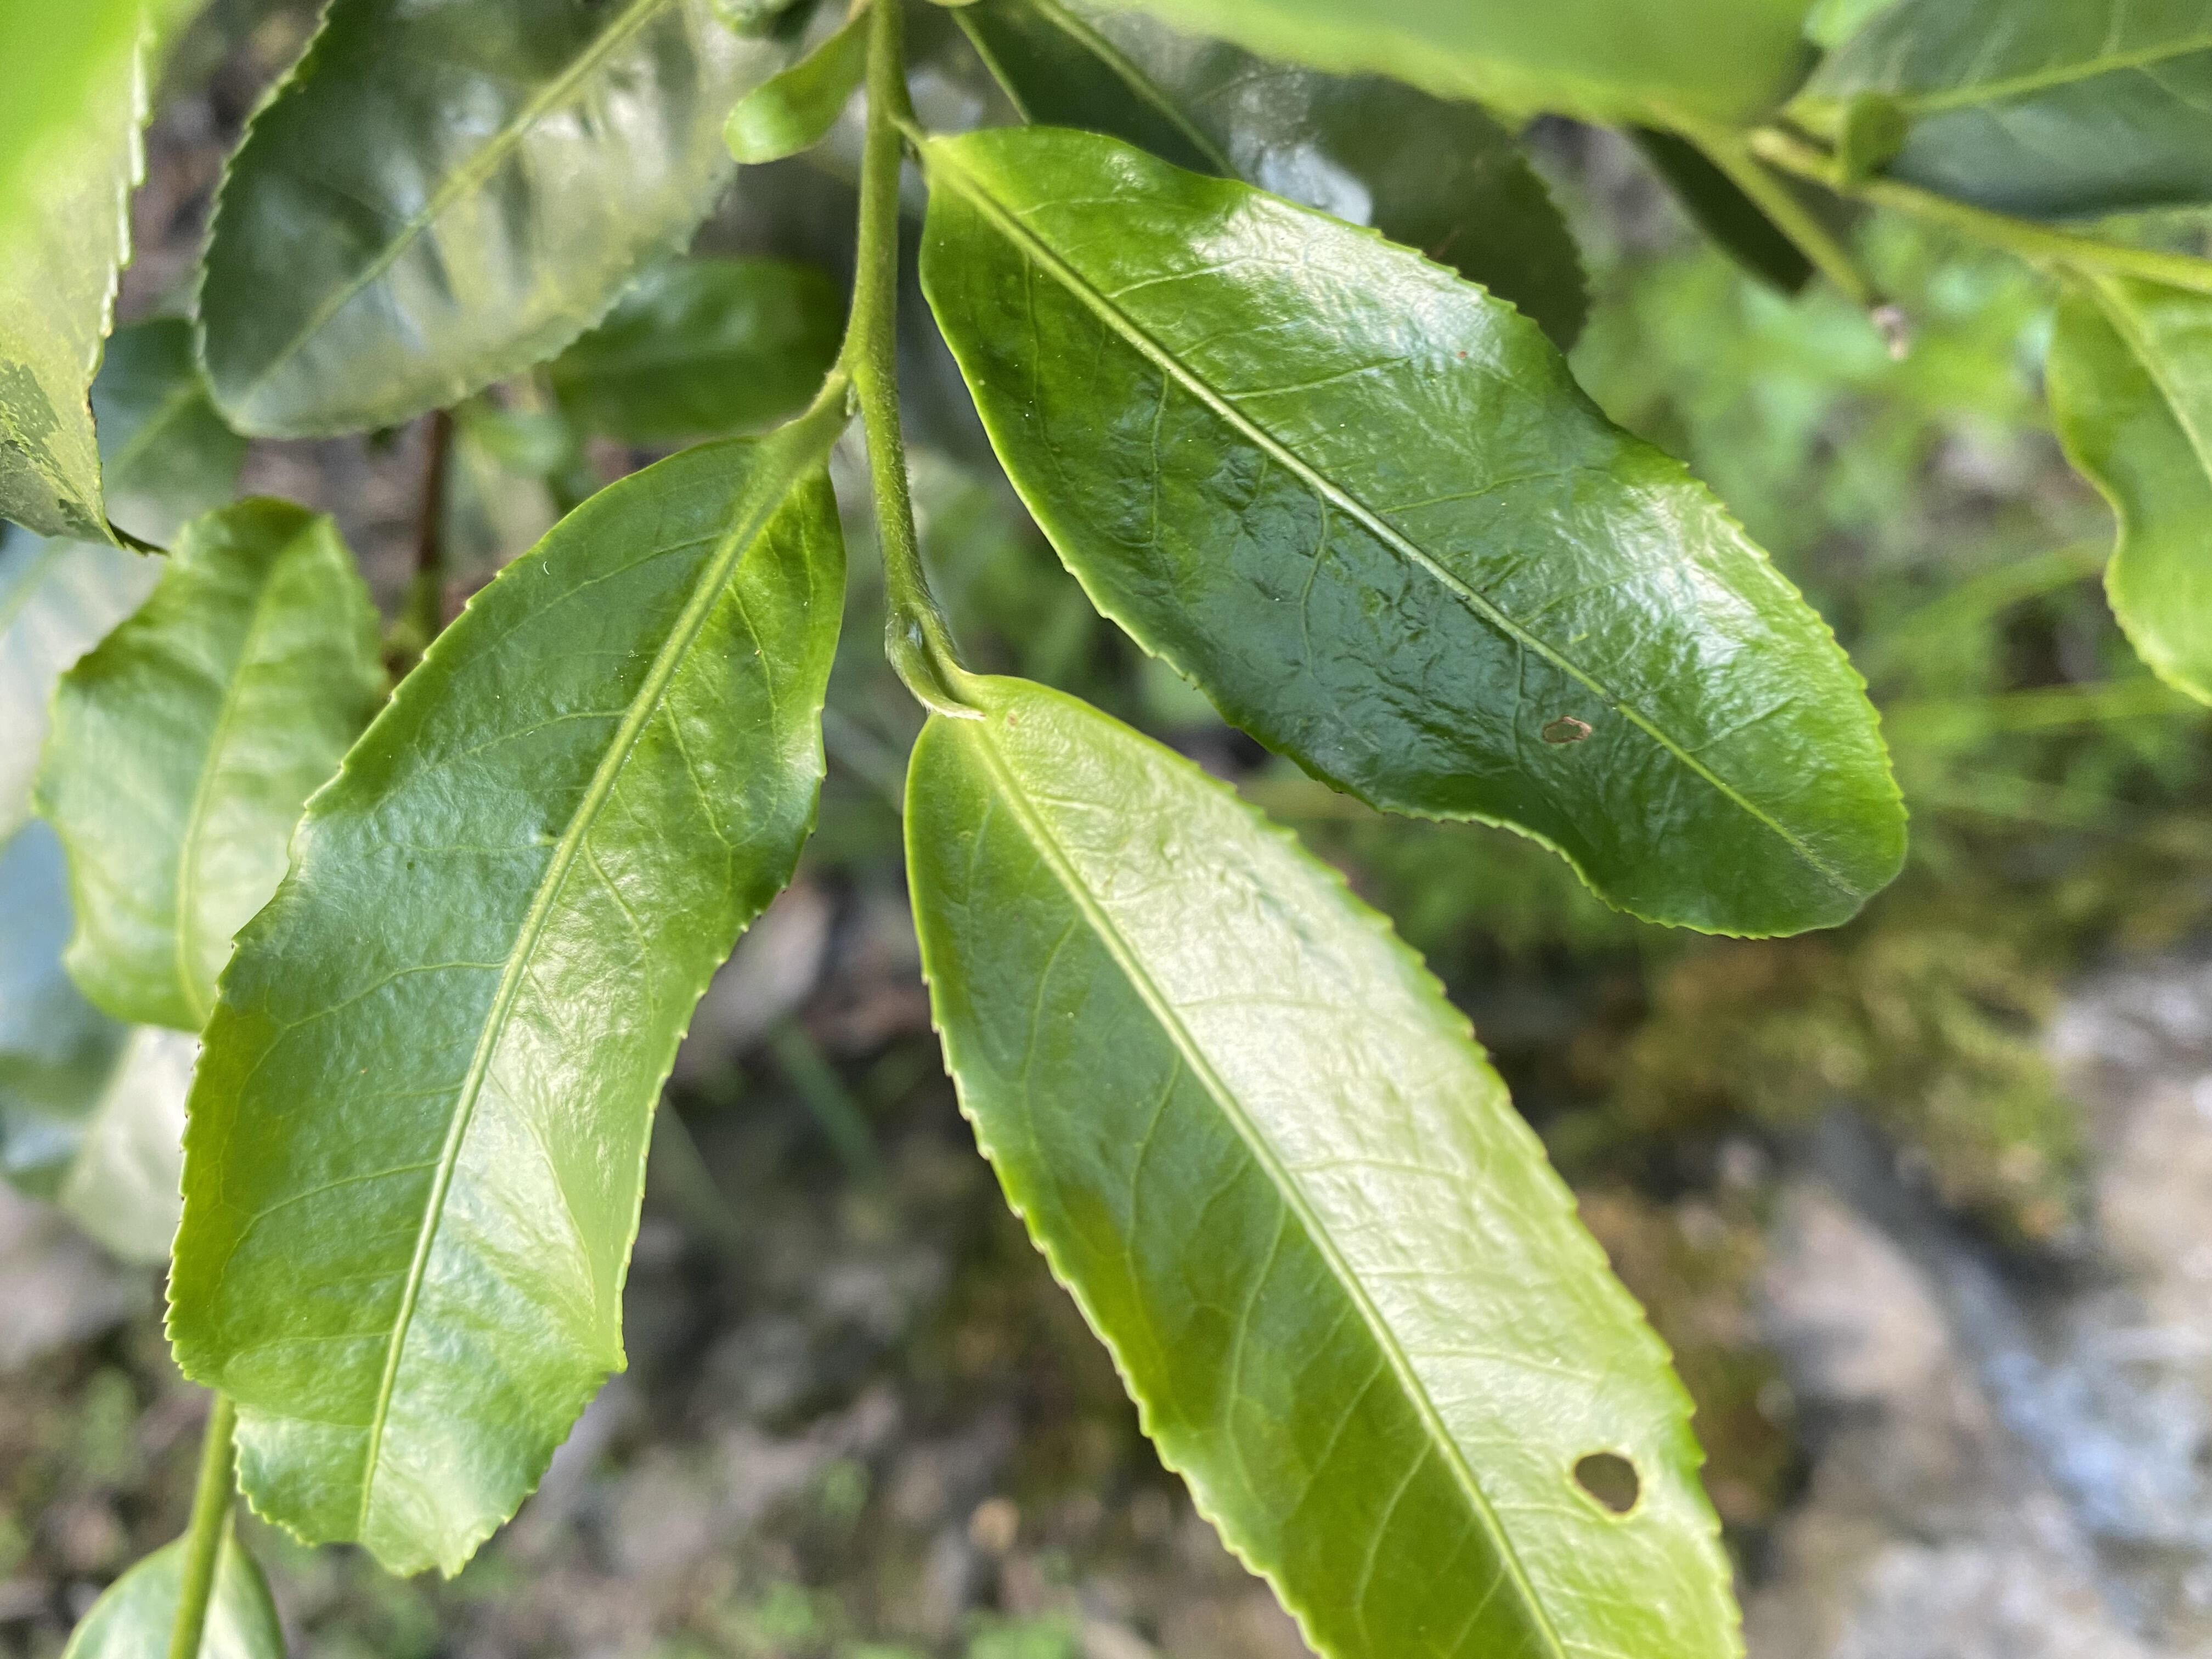chihuo_low: (902, 666, 1750, 1656), (914, 124, 1916, 939)
healthy: (160, 430, 852, 1586)
